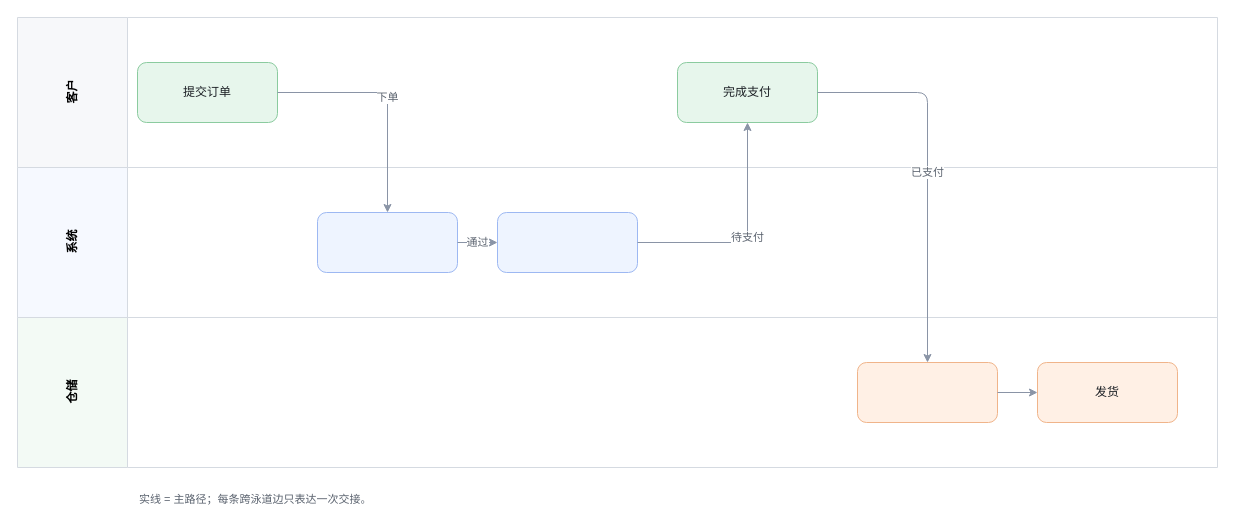
Some shapes in this 1235 by 529 pixel diagram are drawn without their labels. Each missing label, with the centre of its shape:
"拣货打包" goes at point 927,392.
"校验库存" goes at point 387,242.
"生成订单" goes at point 567,242.
